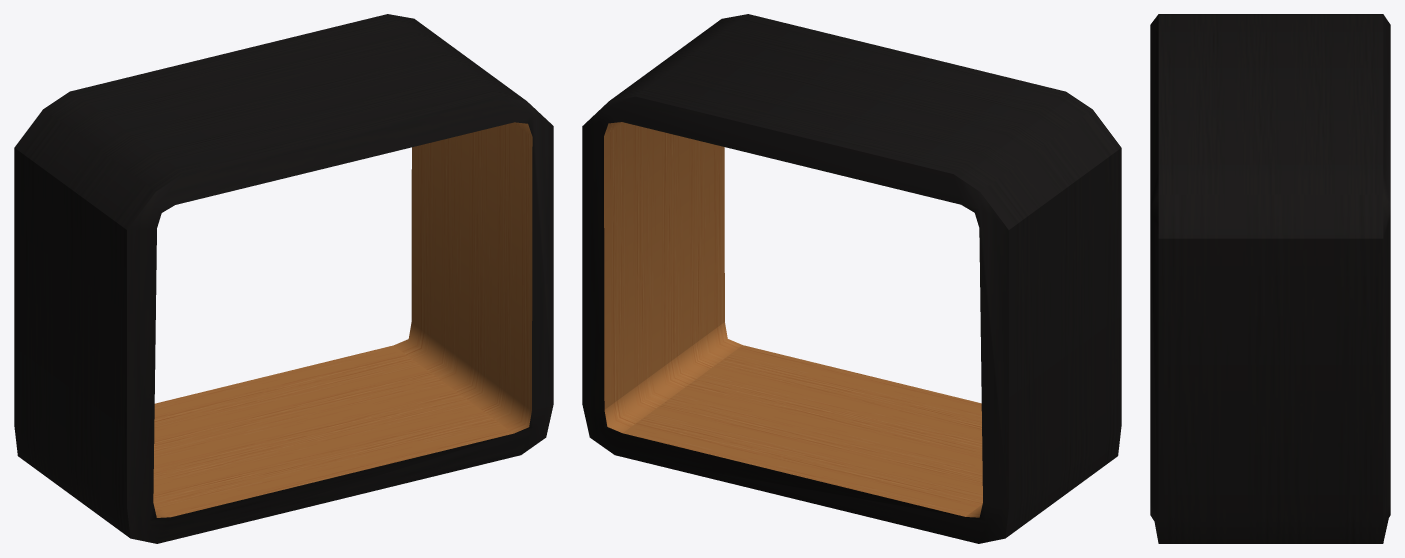
The model's file is Wall_Shelf_02_E.FBX.
3 views of the same model, side by side, from view 1: azimuth 30°, elevation 25°; view 2: azimuth 150°, elevation 25°; view 3: azimuth 270°, elevation 25° (orthographic).
Parts seen in each view (by area): view 1: Wall_Shelf_02; view 2: Wall_Shelf_02; view 3: Wall_Shelf_02.
Boxes of the visible parts, bbox=[...] form: Wall_Shelf_02: bbox=[14, 14, 553, 543]; Wall_Shelf_02: bbox=[582, 14, 1121, 543]; Wall_Shelf_02: bbox=[1150, 14, 1390, 543].
Bounding box in the file's own units: 120 × 98.08 × 58.85.
